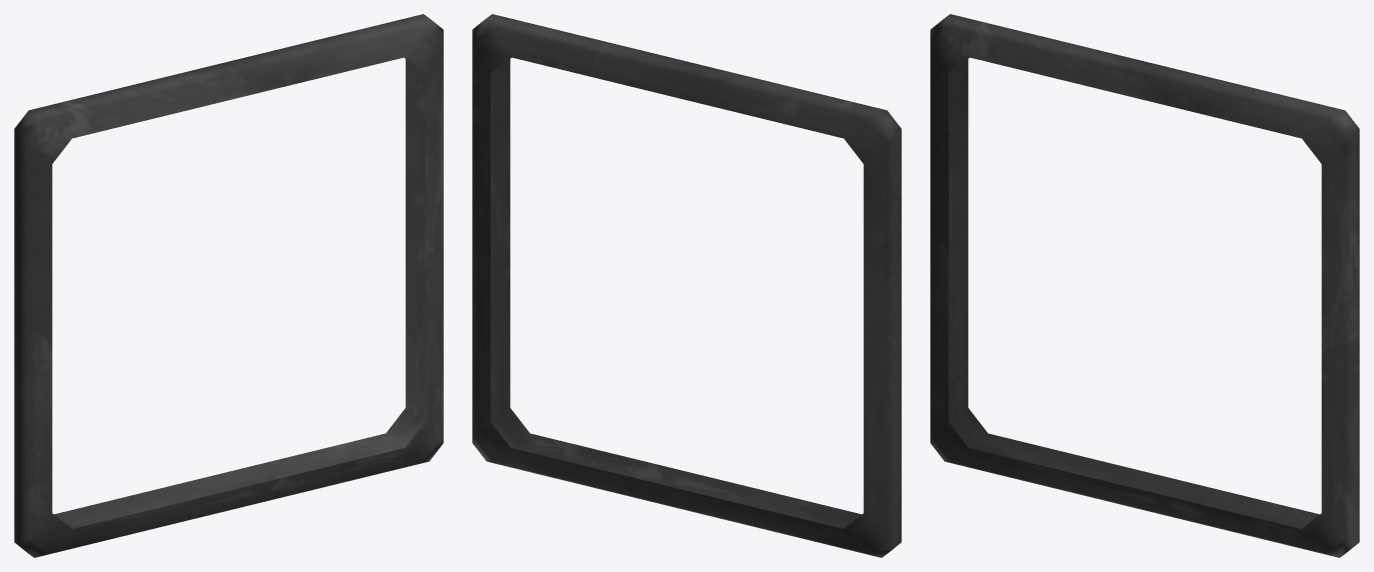
File: pipequadconnector_001.fbx
3 views of the same model, side by side, from view 1: azimuth 30°, elevation 25°; view 2: azimuth 150°, elevation 25°; view 3: azimuth 330°, elevation 25° (orthographic).
Visible parts, largest first — view 1: pipequadconnector_001; view 2: pipequadconnector_001; view 3: pipequadconnector_001.
Part boxes in pixels (box(x1,y1,x2,y2)): pipequadconnector_001: box(14, 14, 443, 557); pipequadconnector_001: box(472, 14, 901, 557); pipequadconnector_001: box(930, 14, 1359, 557).
Size of the model in its own units: 1001 by 80 by 1001.
